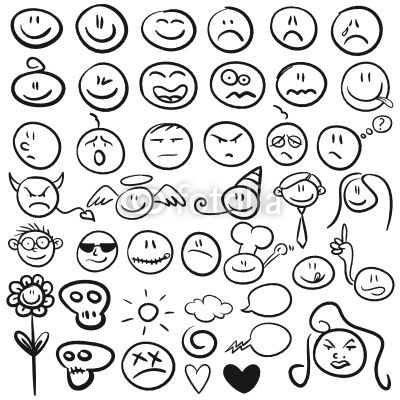feliz: (4, 57, 70, 112), (75, 61, 132, 115), (5, 3, 69, 51), (140, 60, 200, 111), (336, 61, 395, 112), (138, 5, 195, 57), (75, 1, 128, 54), (116, 183, 152, 219), (82, 13, 118, 43), (149, 16, 189, 43), (21, 14, 52, 38), (20, 237, 51, 260), (120, 193, 148, 215), (232, 257, 253, 274)
